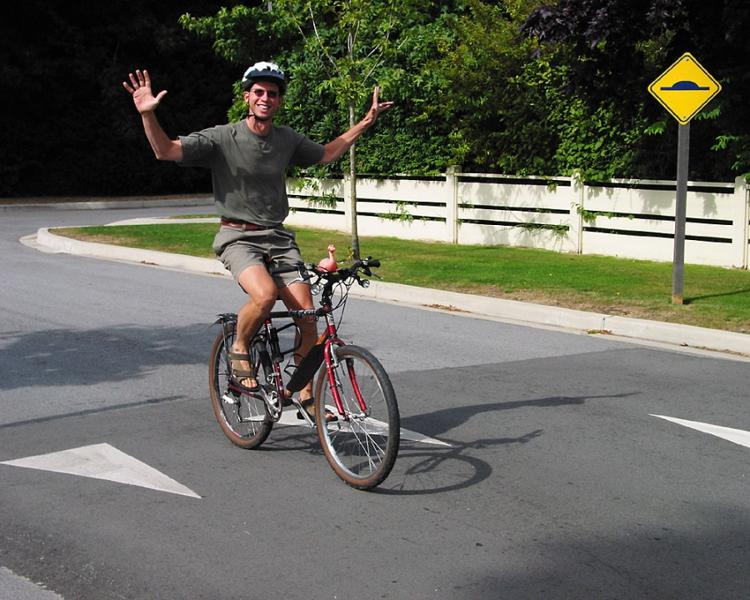person: (121, 56, 393, 421)
